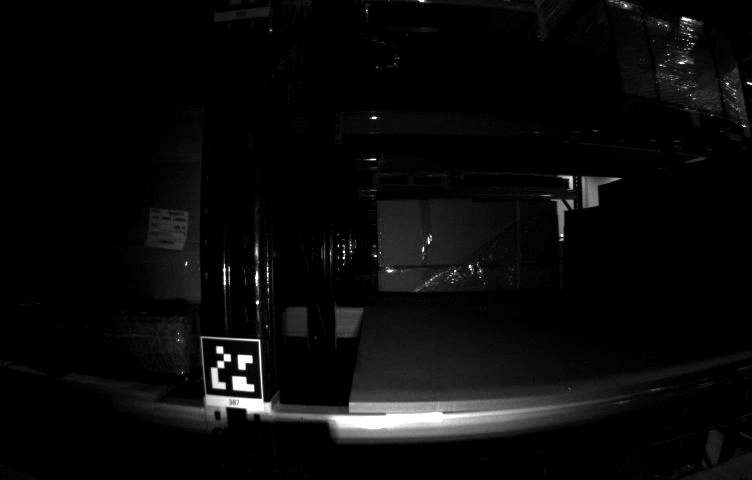True Barcode: (146, 206, 186, 251)
